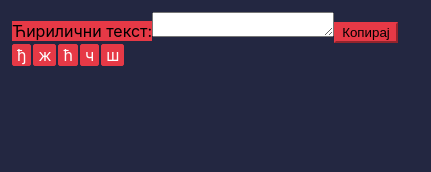
Accessibility Tests › Copy Buttons › should show success feedback after copy
Click the button with aria-label "Copy cyrillic text to clipboard" at (366, 32), box [334,22,398,43]
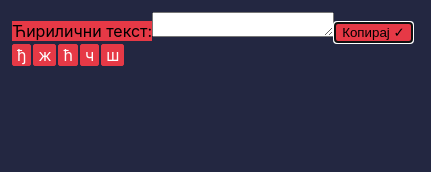
Now the button with aria-label "Copy cyrillic text to clipboard" shows "✓", box [334,22,413,43]
